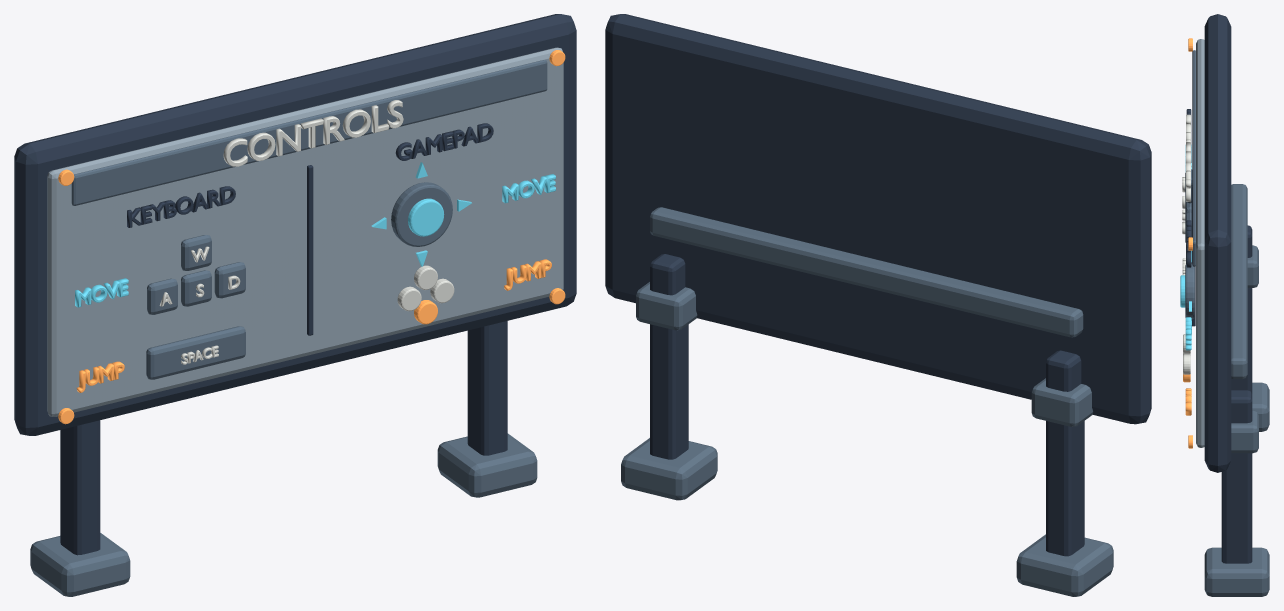
The model's file is ExhibitionControlsSignboard.fbx.
3 views of the same model, side by side, from view 1: azimuth 30°, elevation 25°; view 2: azimuth 150°, elevation 25°; view 3: azimuth 270°, elevation 25° (orthographic). The views are drawn at different scales.
Parts seen in each view (by area): view 1: ECS_Runtime_Face_PastelBlueGray, ECS_Runtime_Trim_DeepNavy, ECS_Runtime_Inset_MutedBlue, ECS_Runtime_Label_Cream, ECS_Runtime_Move_SoftCyan, ECS_Runtime_Jump_WarmOchre; view 2: ECS_Runtime_Trim_DeepNavy, ECS_Runtime_Inset_MutedBlue; view 3: ECS_Runtime_Trim_DeepNavy, ECS_Runtime_Inset_MutedBlue, ECS_Runtime_Face_PastelBlueGray, ECS_Runtime_Label_Cream, ECS_Runtime_Move_SoftCyan, ECS_Runtime_Jump_WarmOchre.
Part boxes in pixels (x1,y1,x2,y2): ECS_Runtime_Face_PastelBlueGray: [47, 47, 563, 416]; ECS_Runtime_Trim_DeepNavy: [14, 14, 576, 555]; ECS_Runtime_Inset_MutedBlue: [30, 60, 547, 596]; ECS_Runtime_Label_Cream: [159, 100, 454, 364]; ECS_Runtime_Move_SoftCyan: [75, 162, 555, 307]; ECS_Runtime_Jump_WarmOchre: [58, 50, 565, 424]; ECS_Runtime_Trim_DeepNavy: [605, 14, 1151, 556]; ECS_Runtime_Inset_MutedBlue: [621, 207, 1113, 596]; ECS_Runtime_Trim_DeepNavy: [1186, 14, 1252, 563]; ECS_Runtime_Inset_MutedBlue: [1185, 50, 1269, 596]; ECS_Runtime_Face_PastelBlueGray: [1196, 39, 1204, 447]; ECS_Runtime_Label_Cream: [1182, 114, 1190, 374]; ECS_Runtime_Move_SoftCyan: [1180, 145, 1191, 350]; ECS_Runtime_Jump_WarmOchre: [1183, 38, 1192, 448].
Bounding box in the file's own units: 308 × 242 × 51.26.
